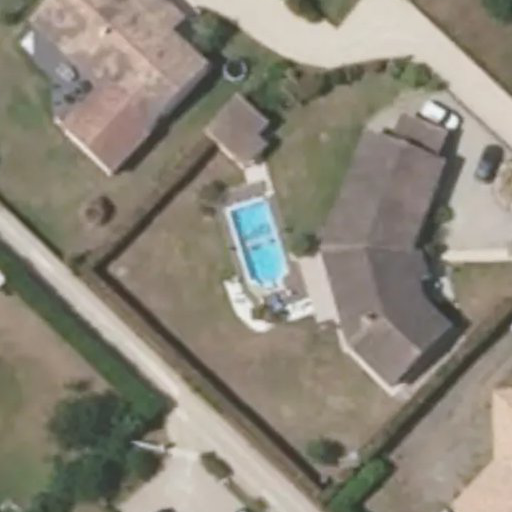pool: (227, 206, 287, 280)
